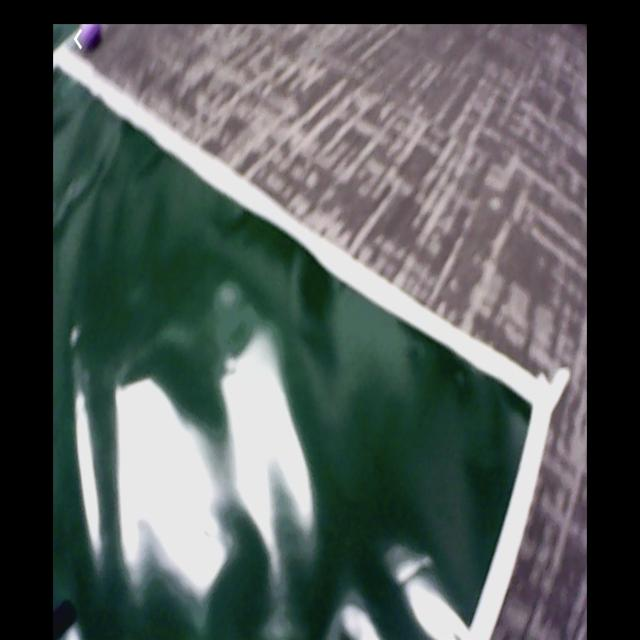ball: (77, 26, 104, 49)
